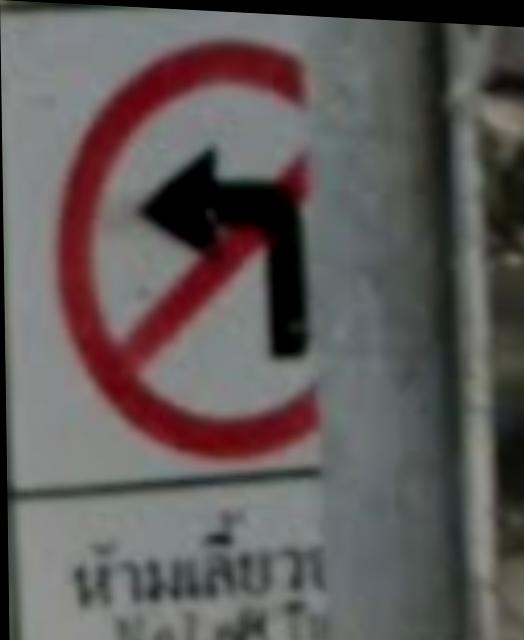not_turn_left: (59, 27, 308, 461)
